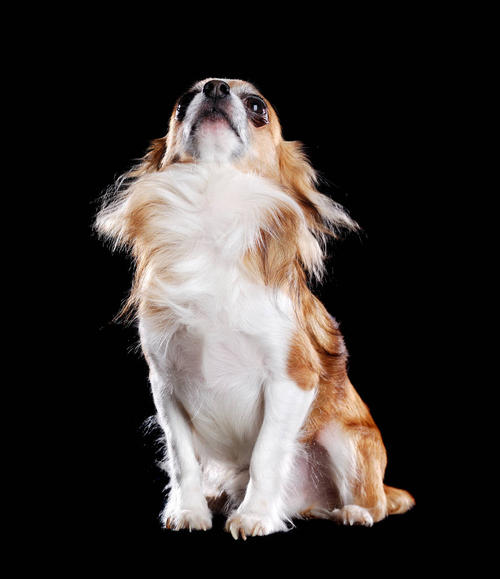dog: (130, 64, 328, 233)
